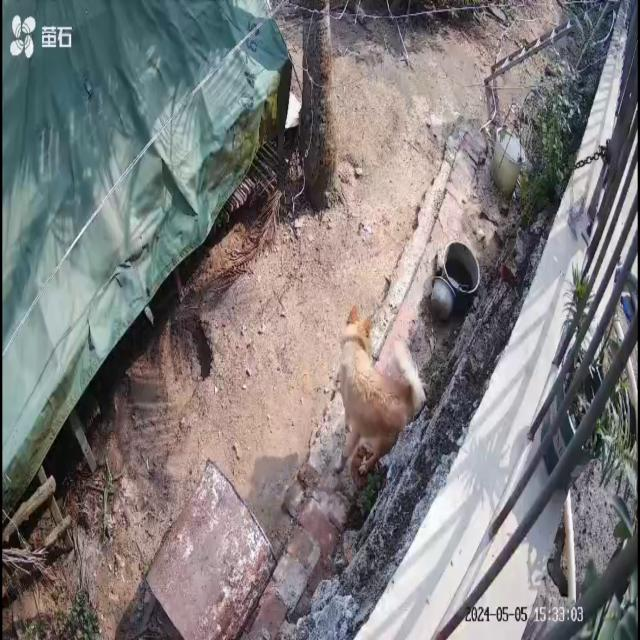dog: (336, 305, 428, 490)
